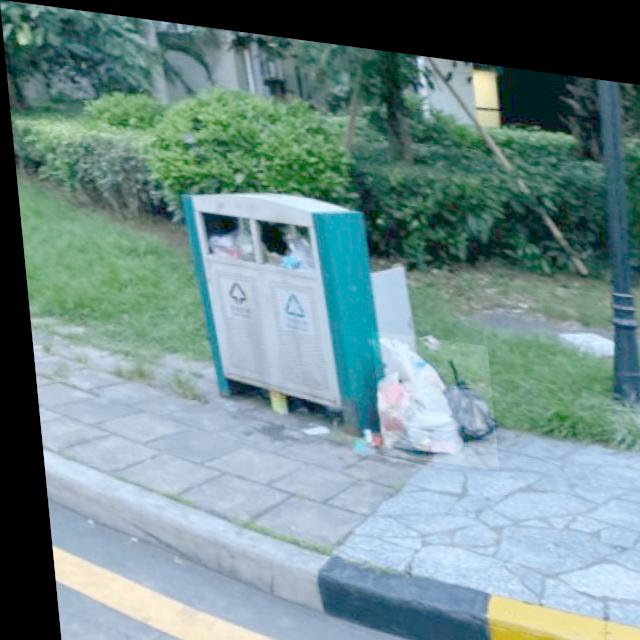garbage: (365, 322, 491, 458)
overflow: (174, 173, 381, 429)
